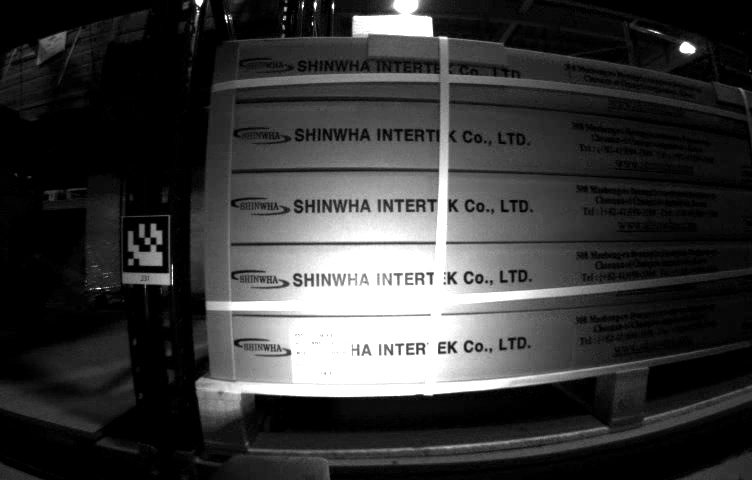True Barcode: (289, 329, 355, 382)
